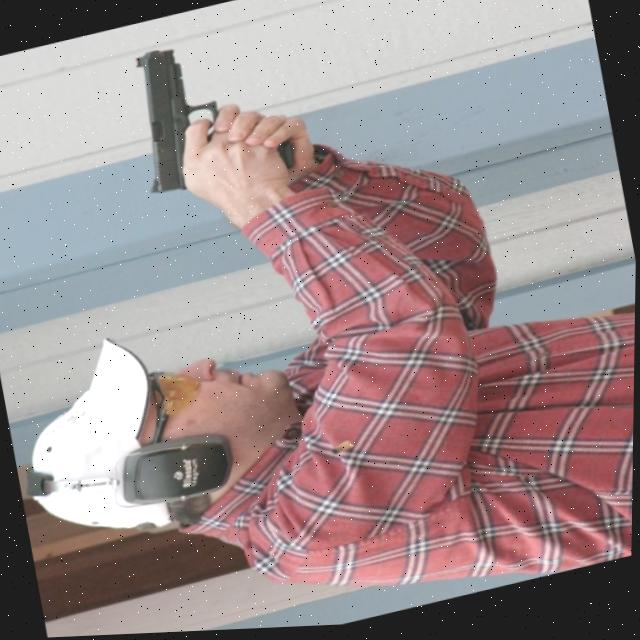pistol: (124, 40, 232, 201)
